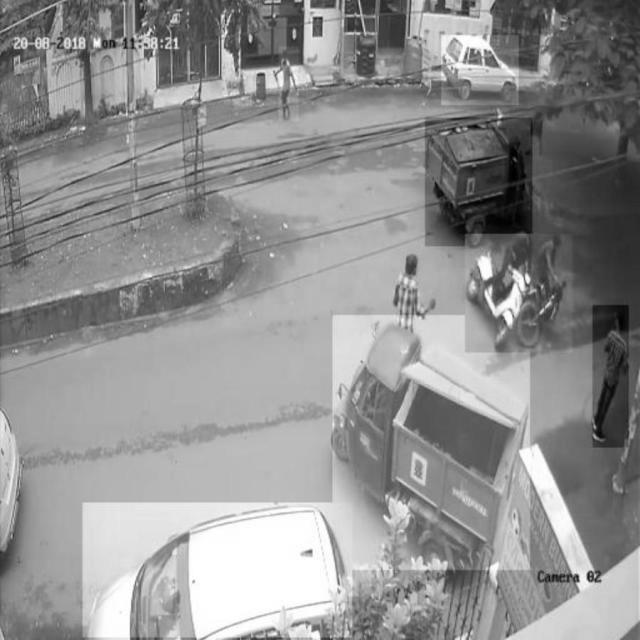accident: (465, 234, 573, 352)
person: (593, 305, 629, 447), (279, 47, 299, 121)
vehicle: (332, 316, 530, 570), (83, 503, 353, 637), (425, 118, 533, 246), (442, 34, 519, 105)
